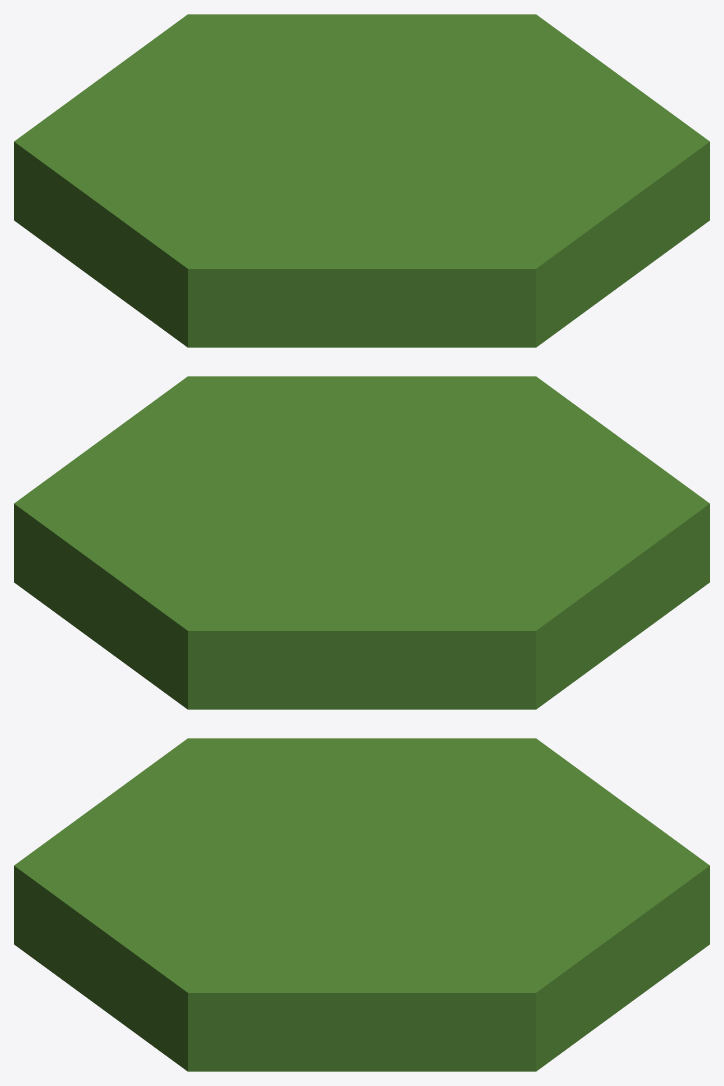
Rendered from fixture.glb.
3 views of the same model, one above another, from view 1: azimuth 30°, elevation 25°; view 2: azimuth 150°, elevation 25°; view 3: azimuth 270°, elevation 25° (orthographic).
Parts seen in each view (by area): view 1: fixture_lod0; view 2: fixture_lod0; view 3: fixture_lod0.
Boxes of the visible parts, x1=… form: fixture_lod0: x1=14, y1=14, x2=709, y2=347; fixture_lod0: x1=14, y1=376, x2=709, y2=709; fixture_lod0: x1=14, y1=738, x2=709, y2=1071.
Size of what is drawn, in the model's own units: 27.71 by 4 by 32.
